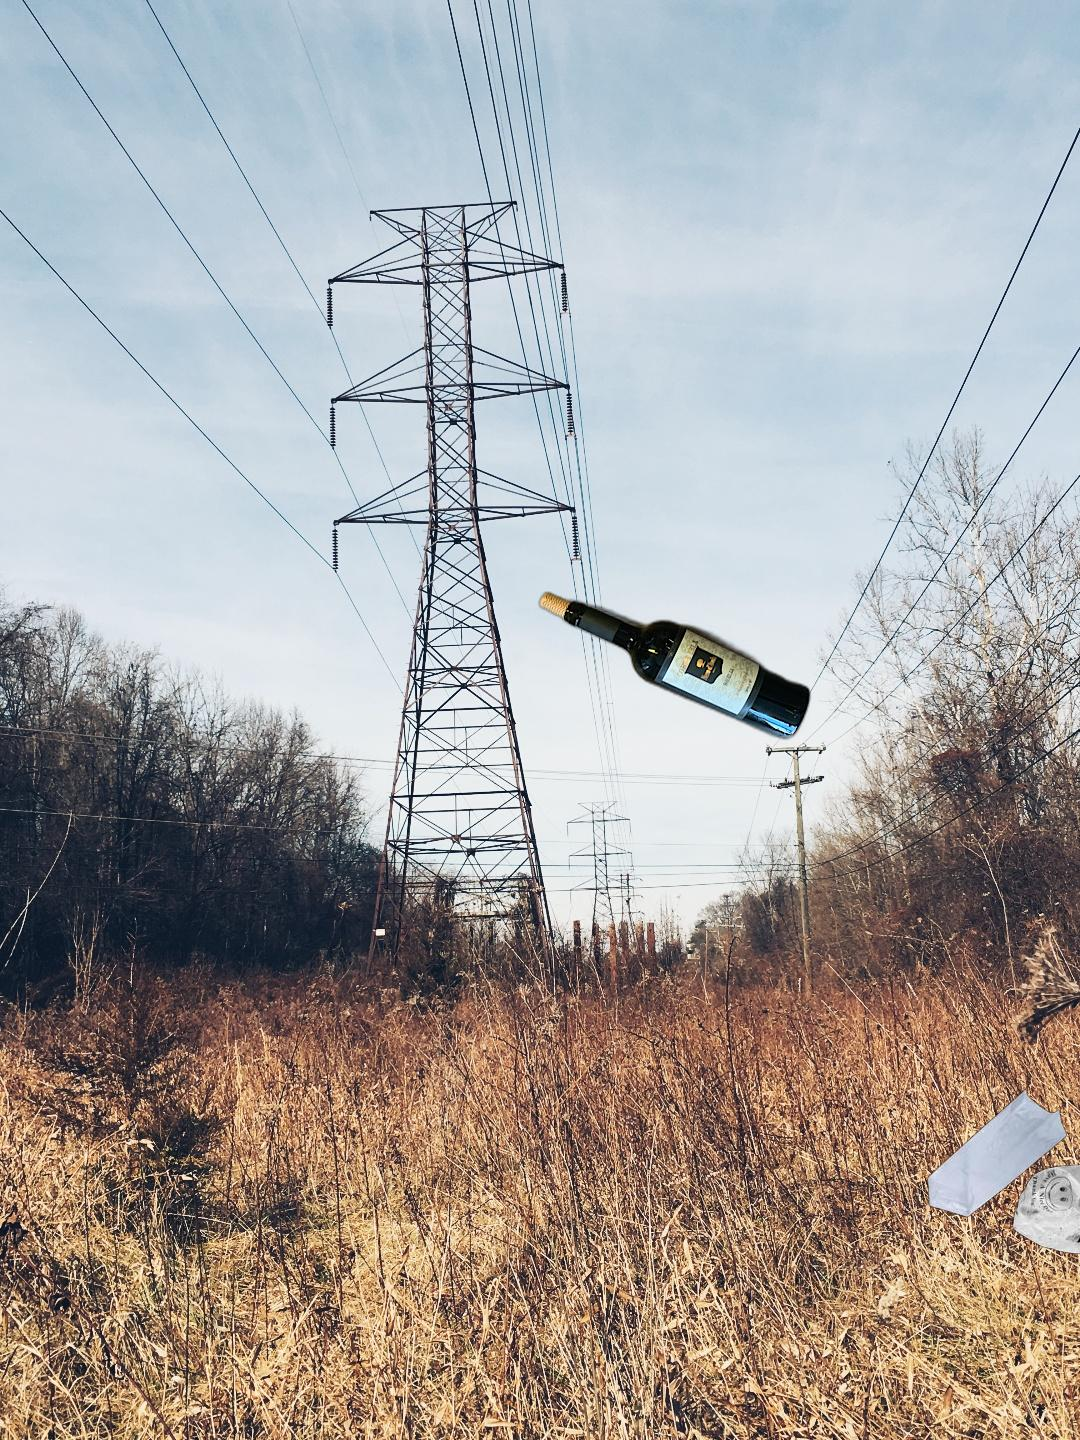glass: (535, 587, 815, 744)
plastic-bag: (923, 1089, 1080, 1257)
